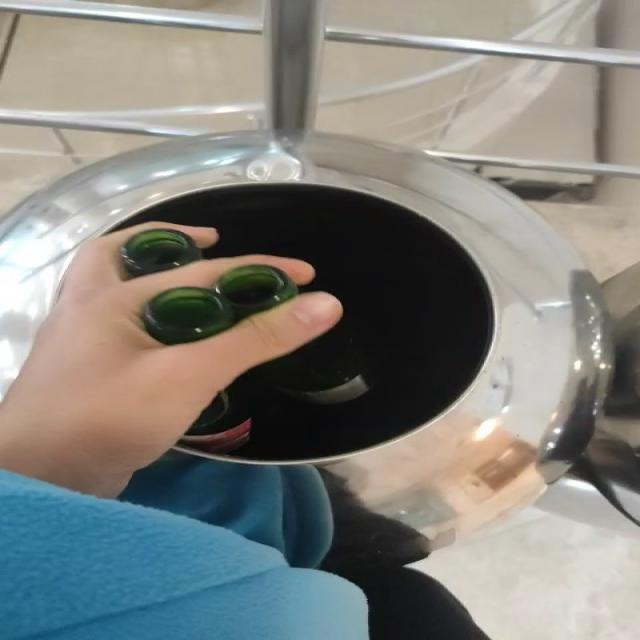glass: (141, 265, 299, 345), (259, 327, 369, 405), (180, 392, 251, 453), (120, 230, 201, 277)
